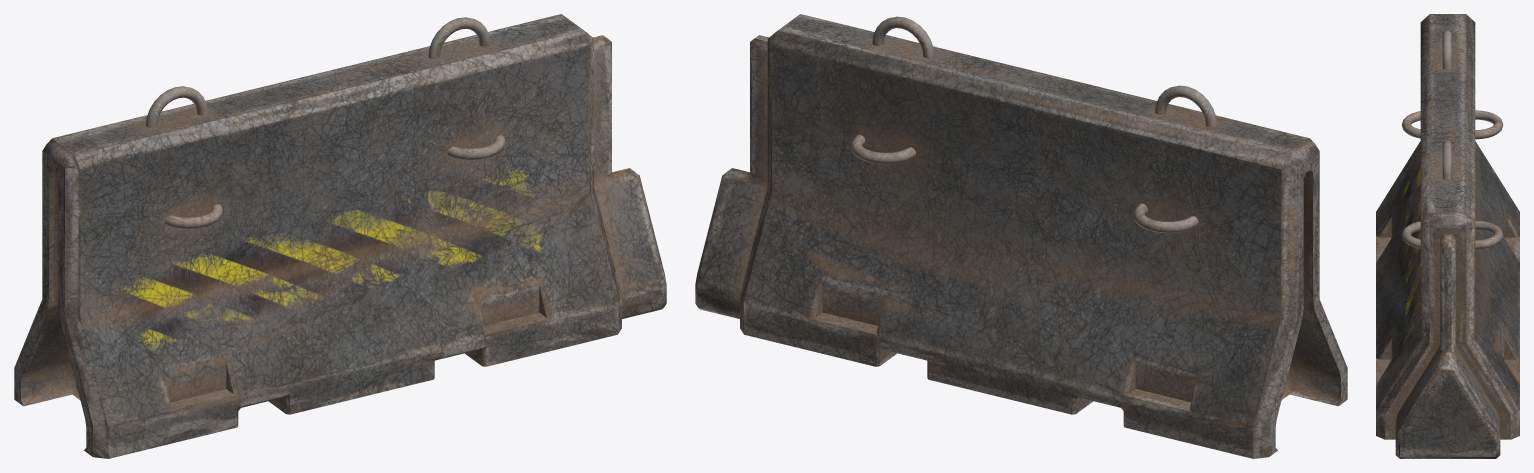
Rendered from Barrier_Long.FBX.
3 views of the same model, side by side, from view 1: azimuth 30°, elevation 25°; view 2: azimuth 150°, elevation 25°; view 3: azimuth 270°, elevation 25° (orthographic). The views are drawn at different scales.
Parts seen in each view (by area): view 1: Box003; view 2: Box003; view 3: Box003.
Part boxes in pixels (bbox=[...]): Box003: bbox=[14, 14, 666, 458]; Box003: bbox=[695, 14, 1347, 458]; Box003: bbox=[1376, 14, 1519, 458].
Bounding box in the file's own units: 65.16 × 33.27 × 17.42.
1 material, 1 textured.
